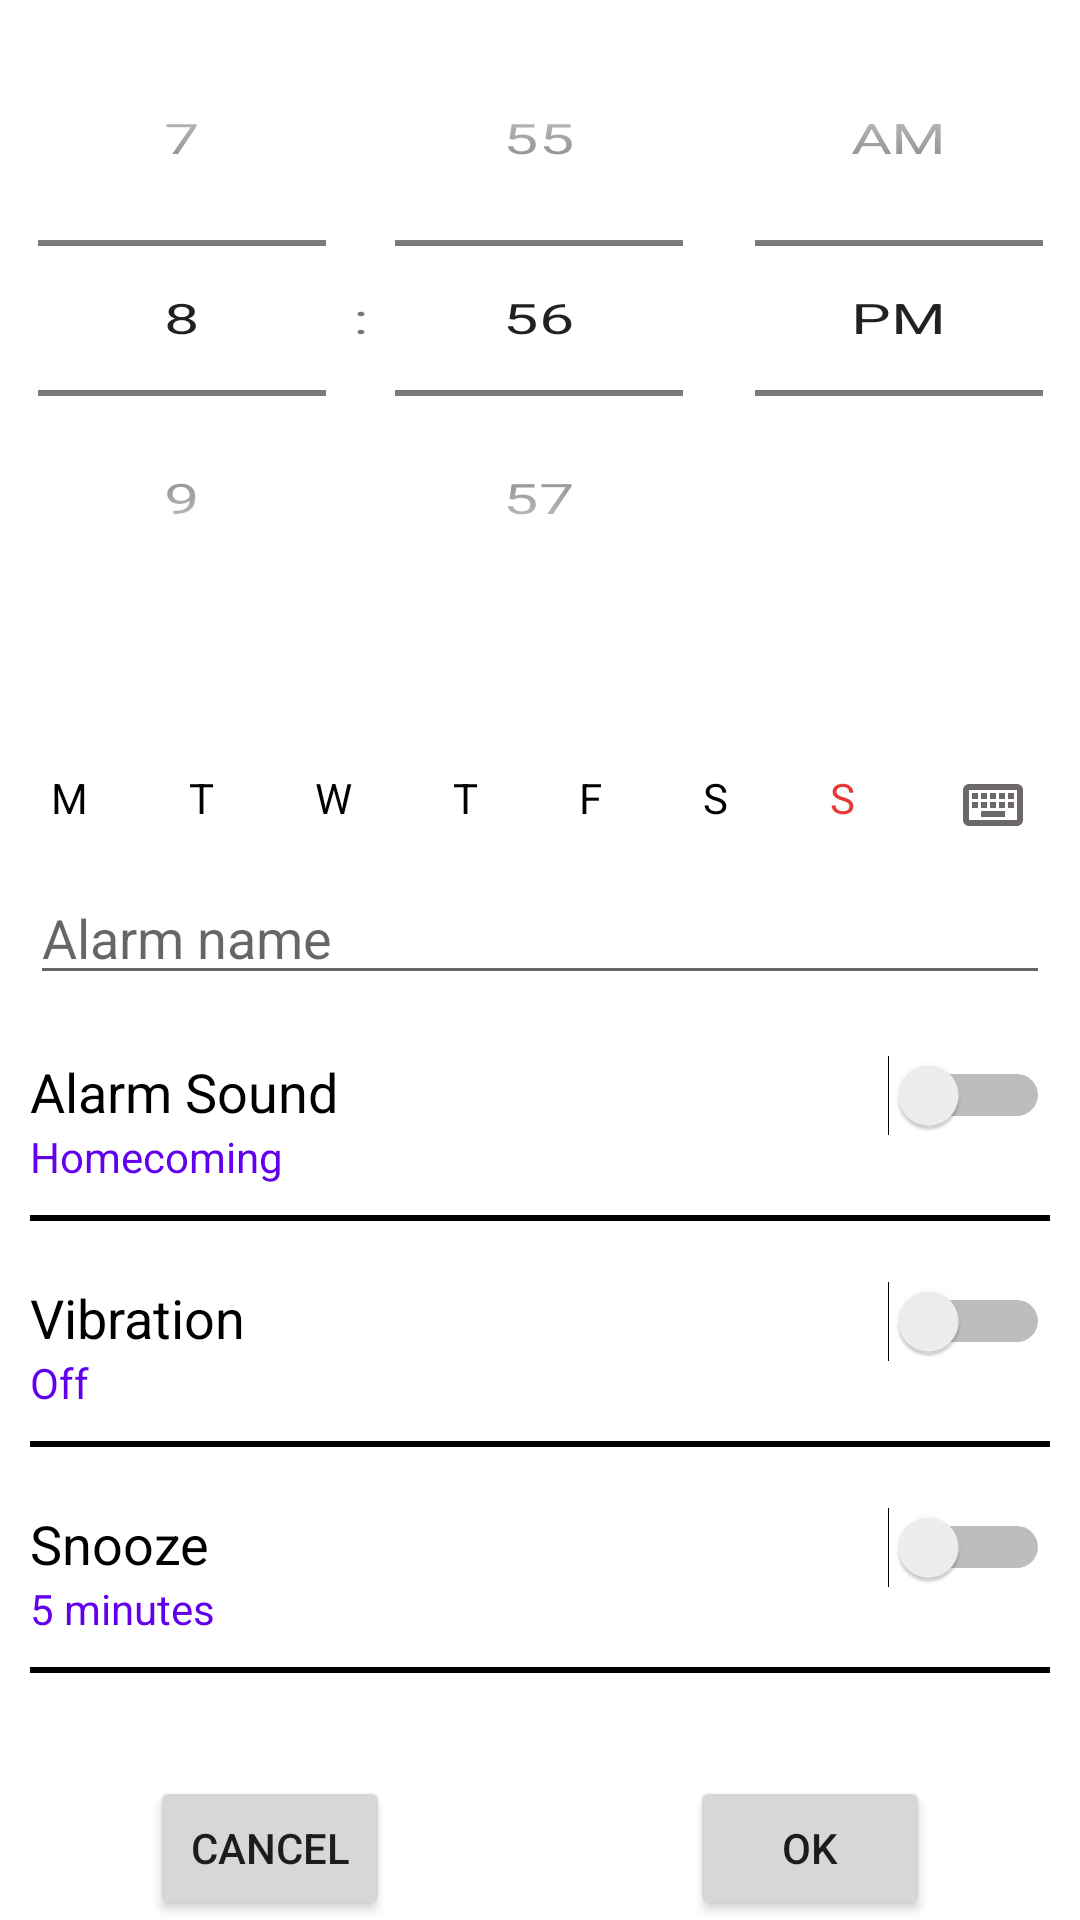

Where to tap for icons on this 1080px×1920px app screen, as [x,y]:
keyboard: [993,805]
